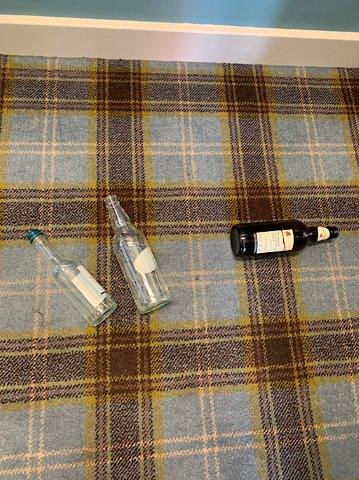botolkaca: (30, 229, 115, 324), (105, 194, 171, 313), (232, 224, 339, 256)
